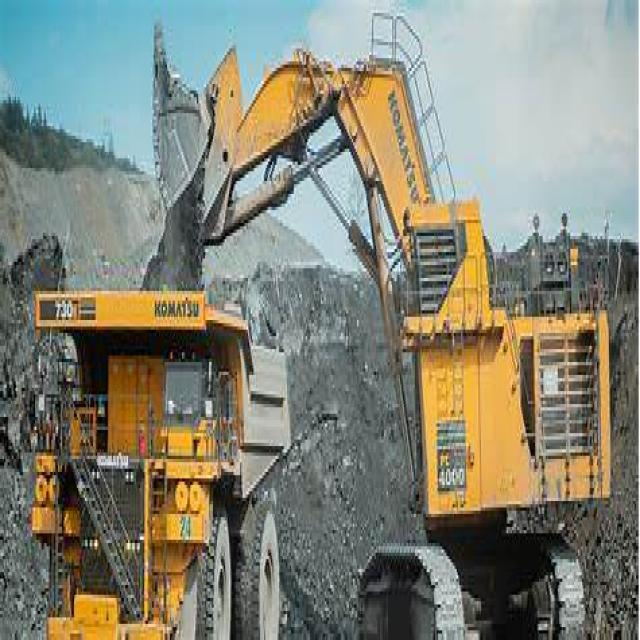dump_truck: (9, 272, 292, 630)
excavator: (144, 29, 636, 617)
